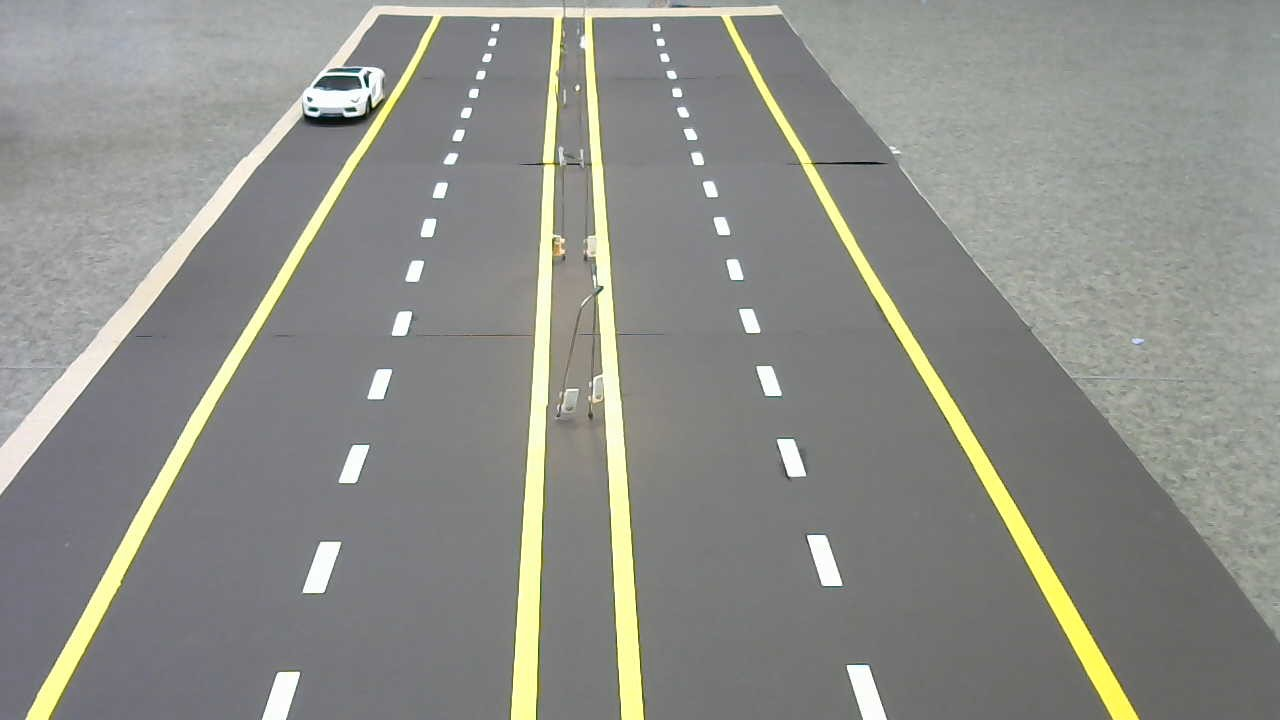front_car: (300, 67, 391, 125)
